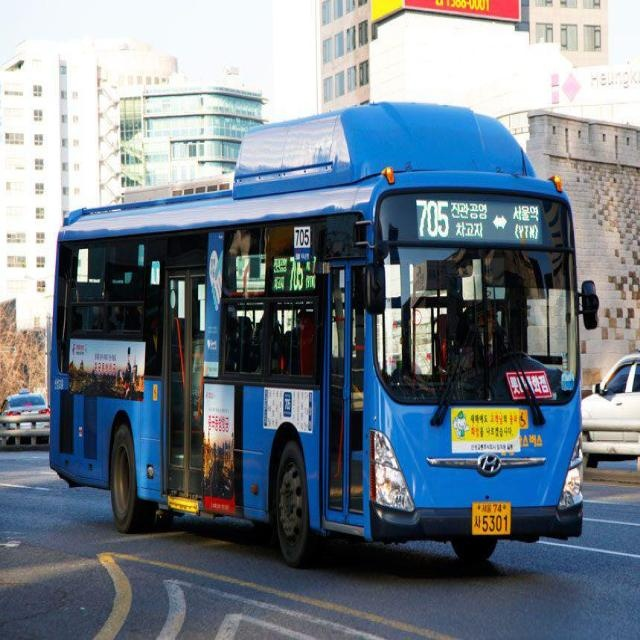Bus: (46, 88, 610, 579)
